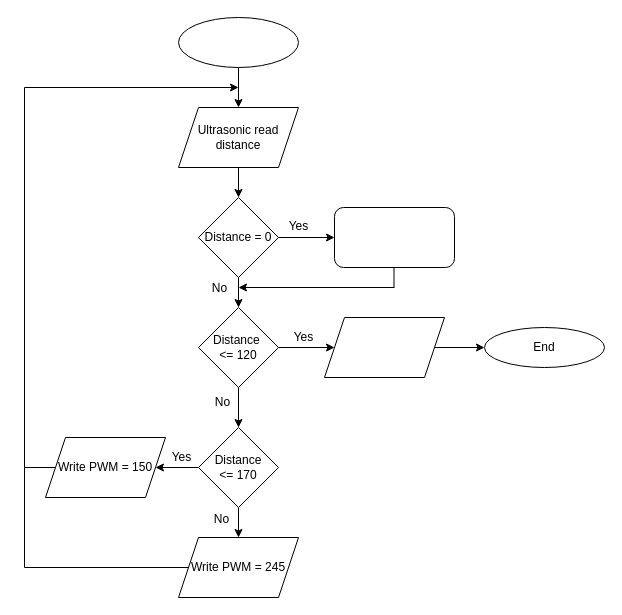
Image size: 622x615. Some labels were removed from this diagram. Here are the shapes that lost their labels. From the top down, the centre of each, then its label:
At point 238,42: "Start".
At point 394,237: "Distance = 500".
At point 384,347: "Write PWM = 0".
